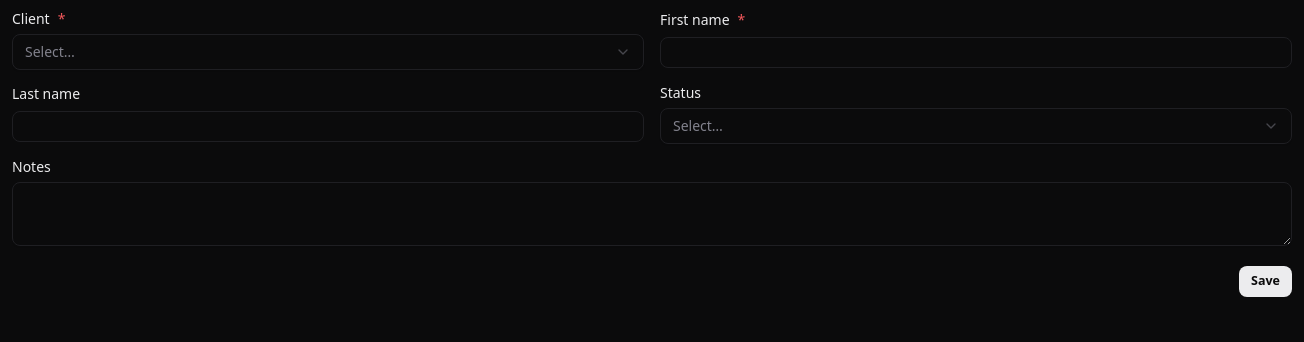
Test case: EntityForm accessibility › ties each message to its own field and clears it once the field is filled
The width and height of the screenshot is (1304, 342).
Click the button "Save" at (1266,282), box [1239,266,1292,297]
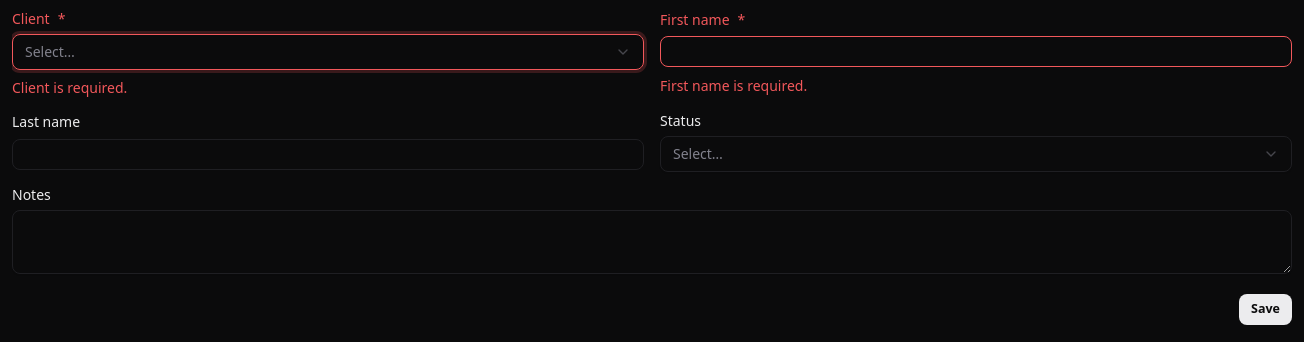
expect the message "First name is required." is shown: met, box [660,76,807,95]
Type "Casey" into the field labelled "First name *" at (976,51), box [660,36,1292,67]
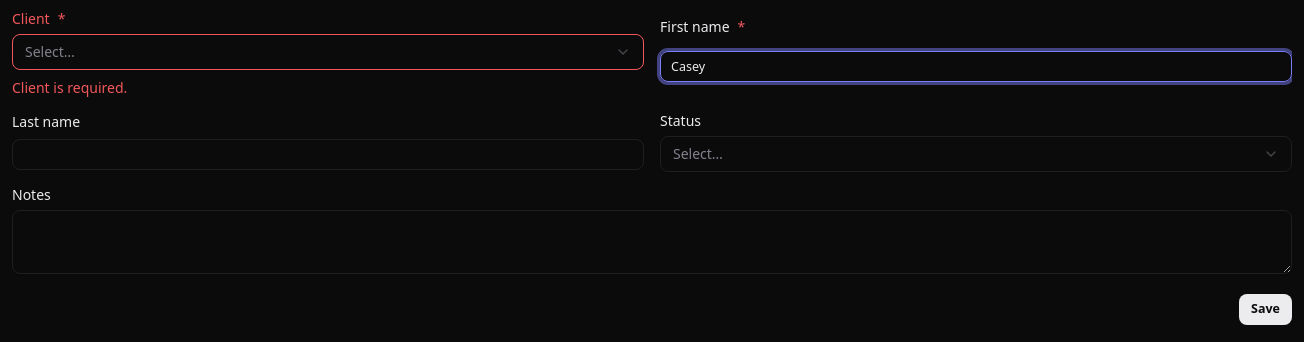
expect the text "First name is required." is gone: met
